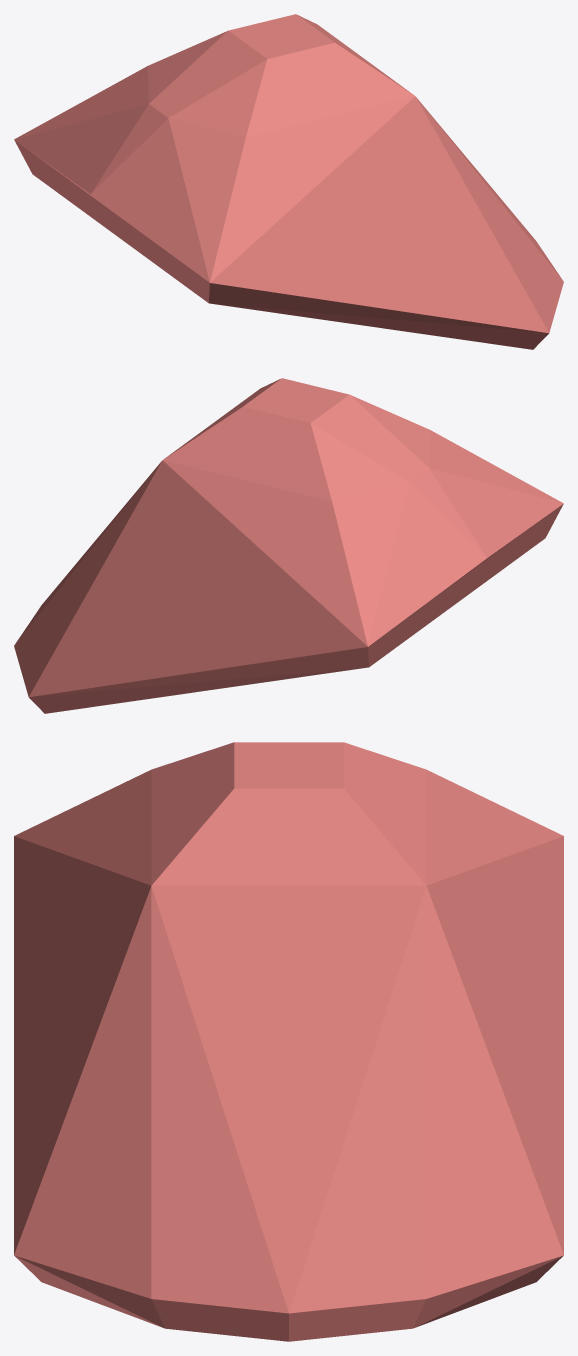
File: plume_red_a.glb
3 views of the same model, one above another, from view 1: azimuth 30°, elevation 25°; view 2: azimuth 150°, elevation 25°; view 3: azimuth 270°, elevation 25° (orthographic). The views are drawn at different scales.
Parts seen in each view (by area): view 1: group264766177; view 2: group264766177; view 3: group264766177.
Boxes of the visible parts, <box> form: group264766177: <box>14,14,563,349</box>; group264766177: <box>14,378,563,713</box>; group264766177: <box>14,742,563,1341</box>.
Size of the model in its own units: 0.189 by 0.117 by 0.144.
